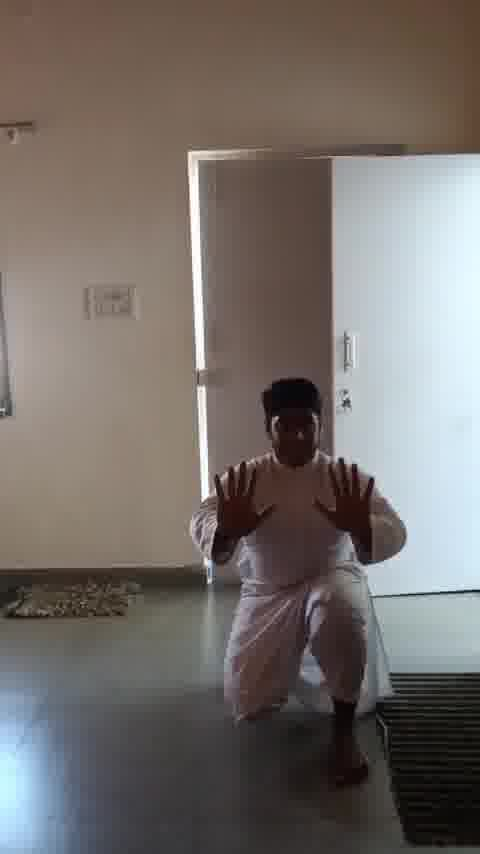duck: (193, 371, 426, 778)
